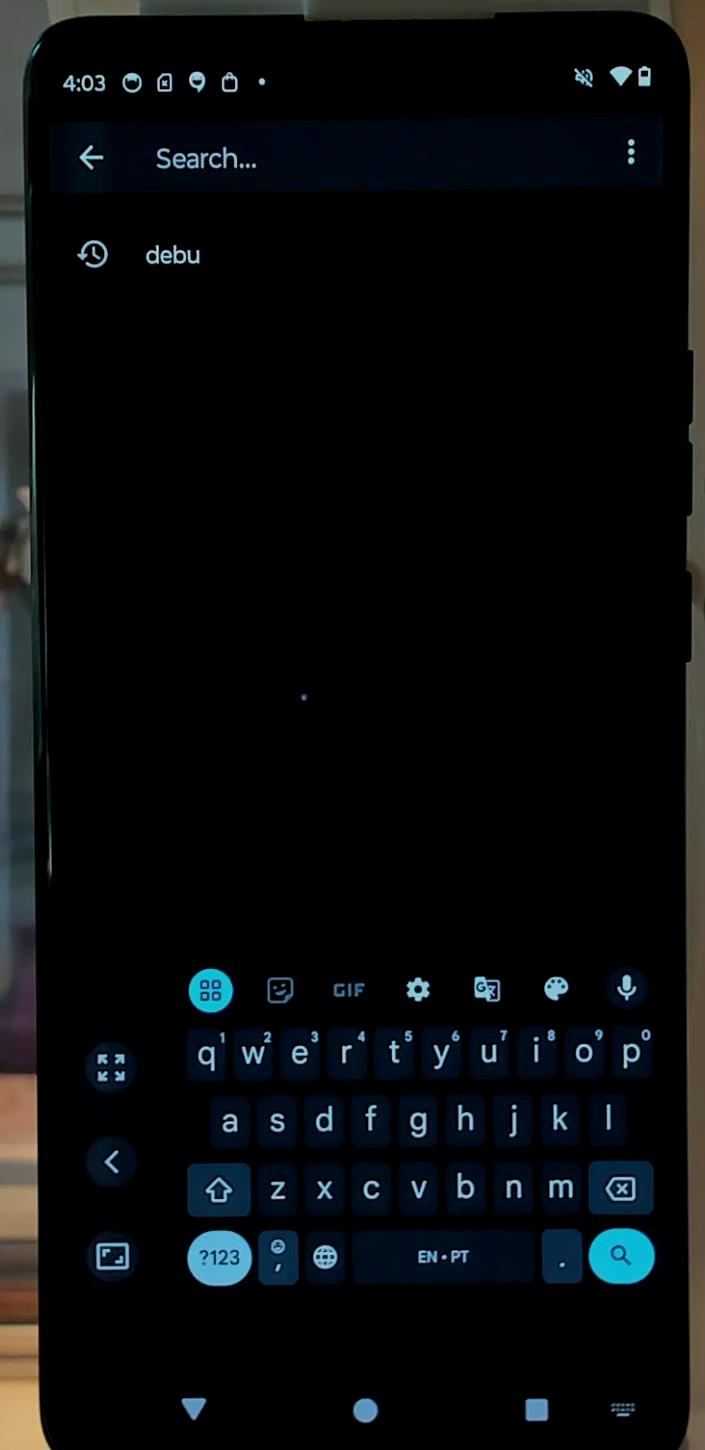TextField: (43, 103, 694, 205)
